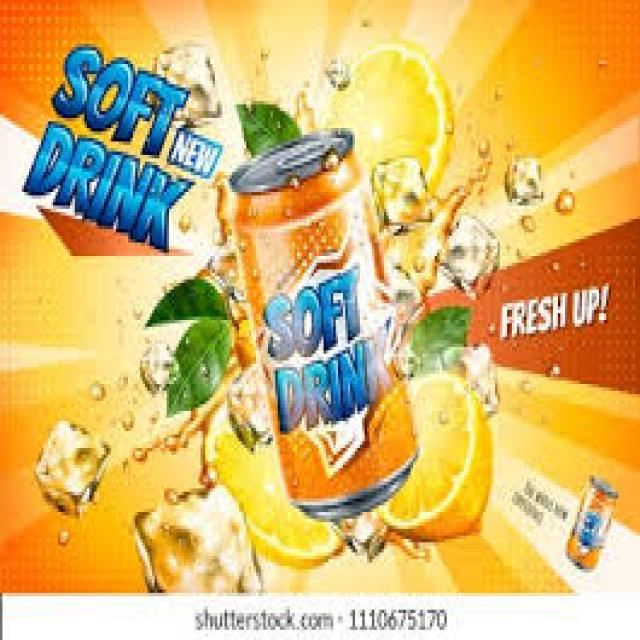Cans: (224, 121, 430, 519)
